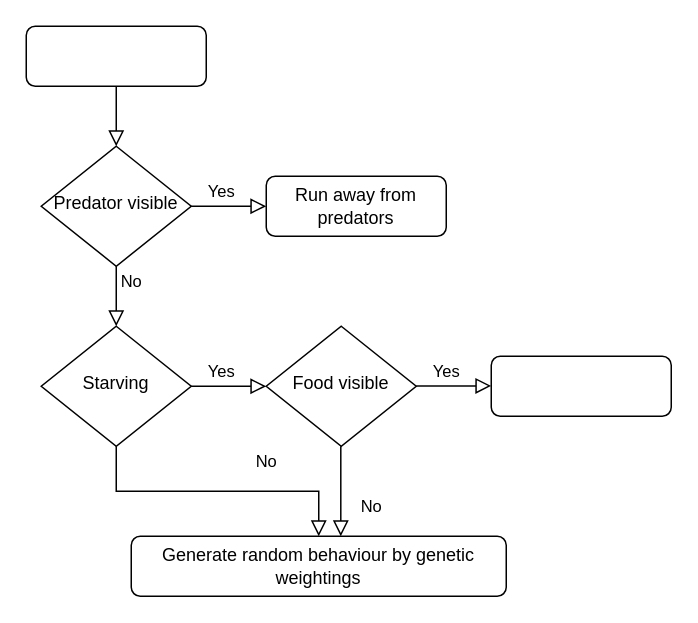
Image size: 698x623. Some labels were removed from this diagram. Here are the shapes that lost their labels. From the top down, the box of each, then its label:
(25, 25, 206, 86): Agent behaviour timestep
(490, 355, 671, 416): Go to food
